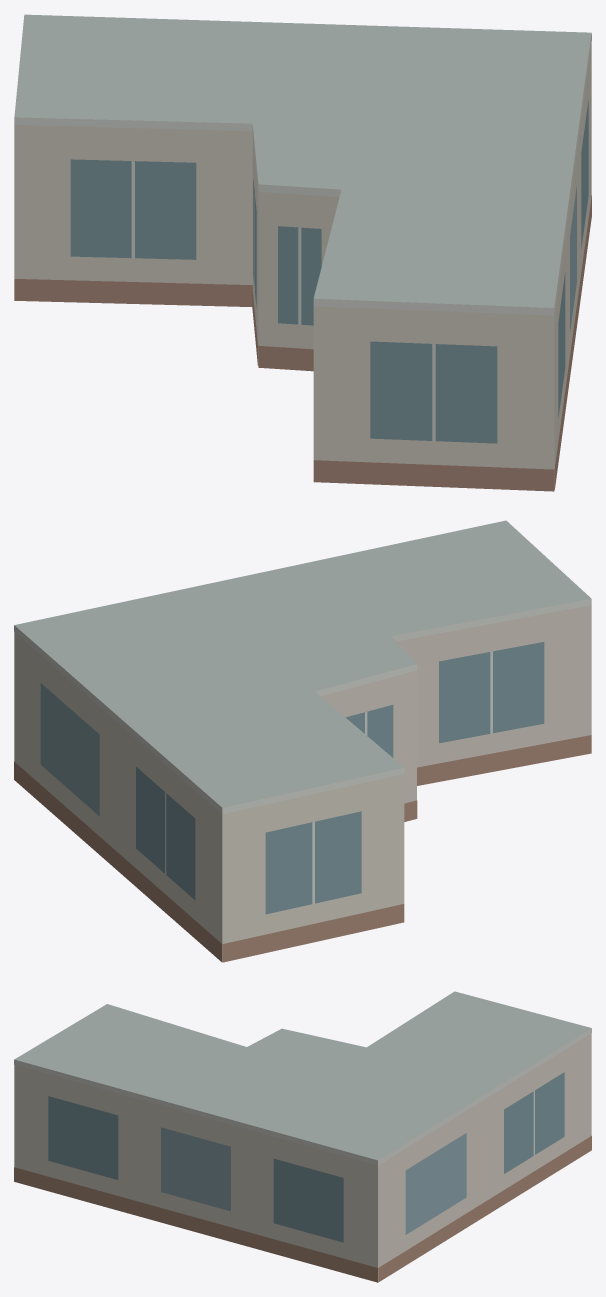
Rendered from survey-upis-32725613.glb.
3 views of the same model, one above another, from view 1: azimuth 30°, elevation 25°; view 2: azimuth 150°, elevation 25°; view 3: azimuth 270°, elevation 25° (orthographic). The views are drawn at different scales.
Parts seen in each view (by area): view 1: survey-upis-32725613.tmp; view 2: survey-upis-32725613.tmp; view 3: survey-upis-32725613.tmp.
Part boxes in pixels (<box>): survey-upis-32725613.tmp: <box>14,14,591,491</box>; survey-upis-32725613.tmp: <box>14,520,591,962</box>; survey-upis-32725613.tmp: <box>14,991,591,1282</box>.
Size of the model in its own units: 9.06 by 3.05 by 13.08.
